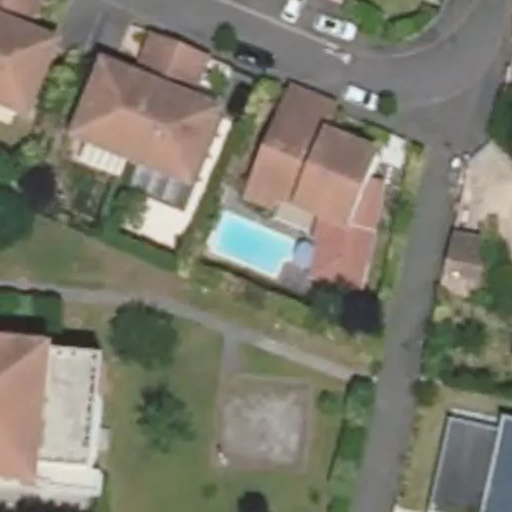pool: (214, 219, 293, 270)
